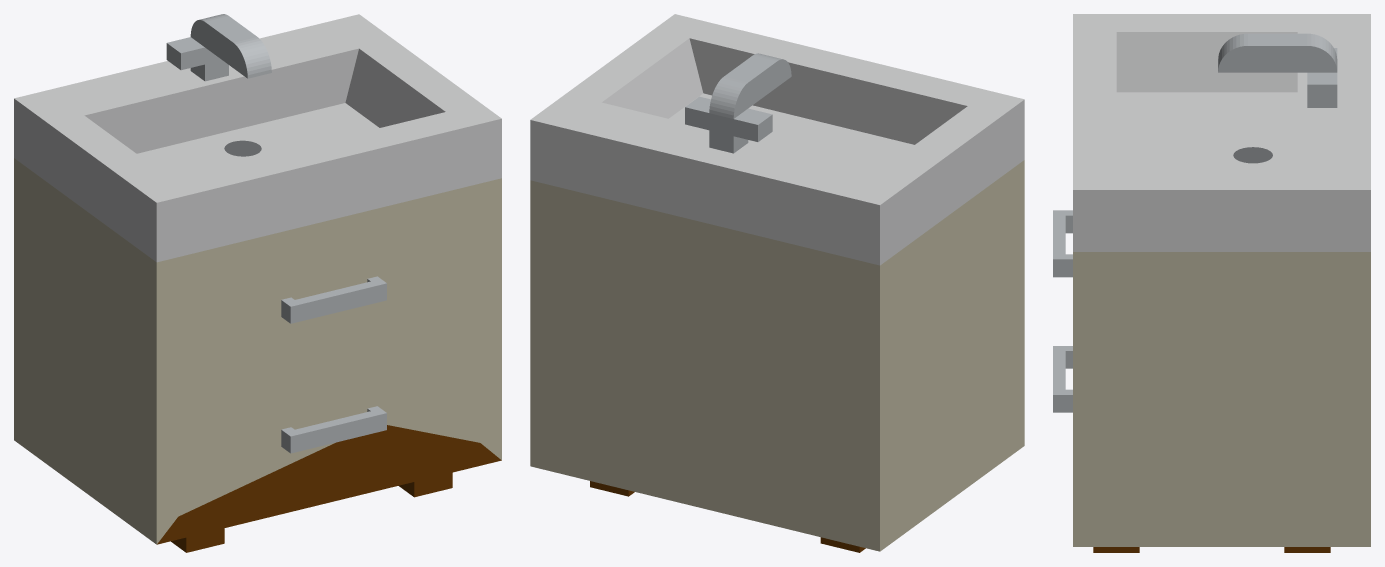
File: washstand.glb
3 views of the same model, side by side, from view 1: azimuth 30°, elevation 25°; view 2: azimuth 150°, elevation 25°; view 3: azimuth 270°, elevation 25° (orthographic). The views are drawn at different scales.
Parts seen in each view (by area): view 1: washstand; view 2: washstand; view 3: washstand.
Boxes of the visible parts, bbox=[...] form: washstand: bbox=[14, 14, 501, 552]; washstand: bbox=[530, 14, 1024, 552]; washstand: bbox=[1053, 14, 1370, 552].
Size of the model in its own units: 0.72 by 0.85 by 0.55.
